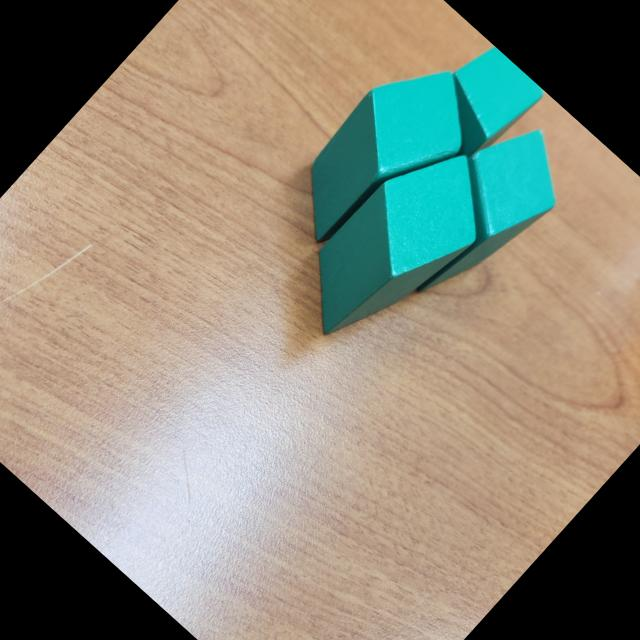green: (277, 124, 512, 368), (268, 38, 496, 274), (378, 107, 586, 323), (409, 37, 548, 178)
